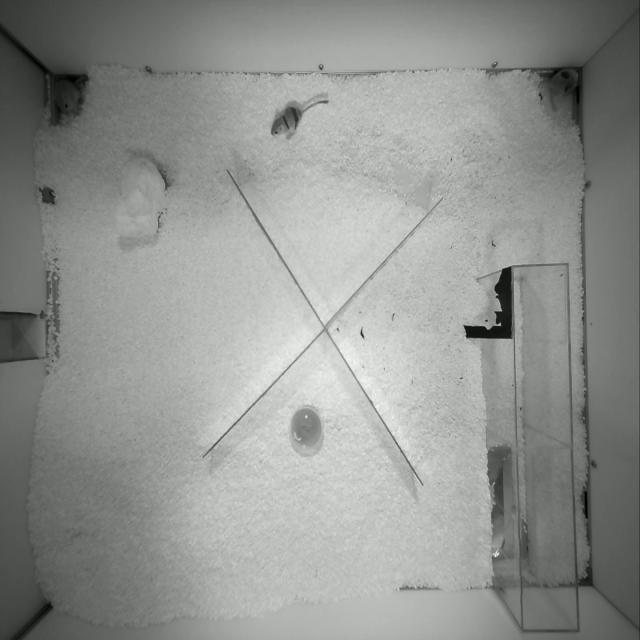pup_fluffy: (53, 75, 88, 115)
pup_h_stripe: (271, 97, 328, 139)
pup_spotted: (539, 68, 578, 116)
